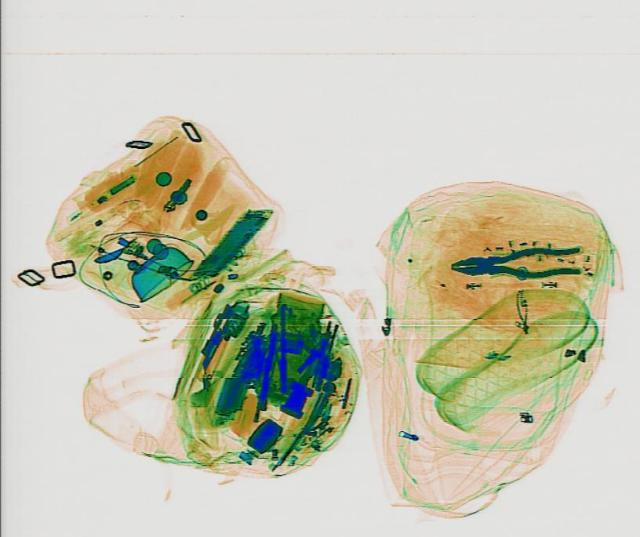Pliers: (450, 244, 582, 281)
